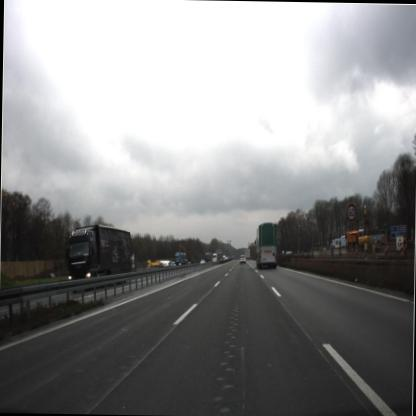prohibitory: (343, 200, 359, 224)
